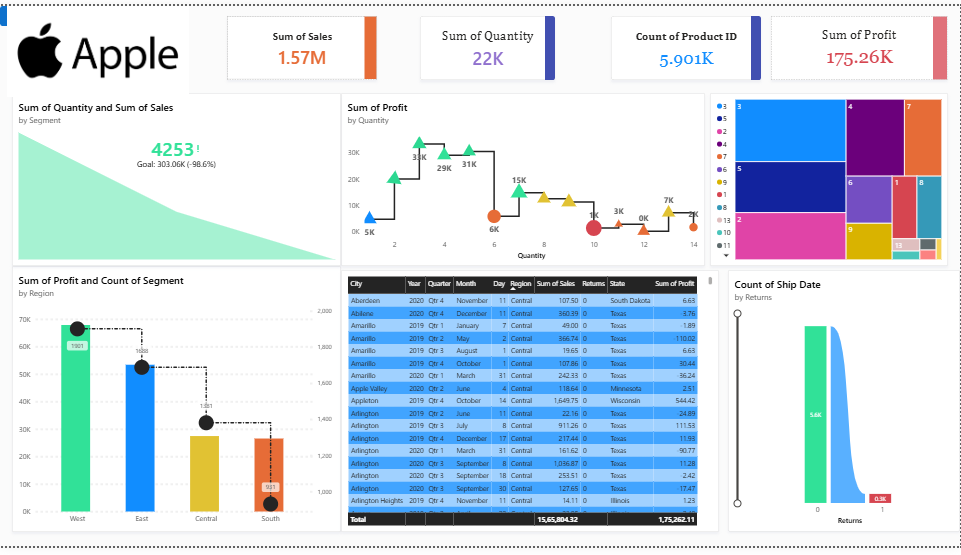

The dashboard page shown, as its layout file describes it:
{"tool":"powerbi","page":{"name":"Page 2","canvas":[1920,1080],"ordinal":0},"visuals":[{"type":"cardVisual","fields":{"Data":["Sum(SuperStore_Sales_Dataset.Profit)"]},"box":[1542.1,20.8,353.1,128.1],"z":0},{"type":"cardVisual","fields":{"Data":["Sum(SuperStore_Sales_Dataset.Sales)"]},"box":[454.6,20.5,300,127.5],"z":1000},{"type":"cardVisual","fields":{"Data":["Sum(SuperStore_Sales_Dataset.Quantity)"]},"box":[839.1,20.5,270,128.6],"z":2000},{"type":"cardVisual","fields":{"Data":["CountNonNull(SuperStore_Sales_Dataset.Product ID)"]},"box":[1221.8,20.5,300,128.6],"z":3000},{"type":"ribbonChart","fields":{"Category":["SuperStore_Sales_Dataset.Returns"],"Y":["CountNonNull(SuperStore_Sales_Dataset.Ship Date)"]},"box":[1456.6,528.9,463.9,522.9],"z":4000},{"type":"actionButton","box":[0,0,100,40],"z":5000},{"type":"treemap","fields":{"Values":["Sum(SuperStore_Sales_Dataset.Sales)"],"Group":["SuperStore_Sales_Dataset.Quantity"]},"box":[1420,174,476,346],"z":6000},{"type":"lineClusteredColumnComboChart","fields":{"Category":["SuperStore_Sales_Dataset.Region"],"Y":["Sum(SuperStore_Sales_Dataset.Profit)"],"Y2":["CountNonNull(SuperStore_Sales_Dataset.Segment)"]},"box":[24,520,658,532],"z":7000},{"type":"lineChart","fields":{"Category":["SuperStore_Sales_Dataset.Quantity"],"Y":["Sum(SuperStore_Sales_Dataset.Profit)"]},"box":[682,174,728,346],"z":8000},{"type":"kpi","fields":{"TrendLine":["SuperStore_Sales_Dataset.Segment"],"Indicator":["Sum(SuperStore_Sales_Dataset.Quantity)"],"Goal":["Sum(SuperStore_Sales_Dataset.Sales)"]},"box":[24,174,658,346],"z":9000},{"type":"tableEx","fields":{"Values":["SuperStore_Sales_Dataset.City","SuperStore_Sales_Dataset.Order Date.Variation.Date Hierarchy.Year","SuperStore_Sales_Dataset.Order Date.Variation.Date Hierarchy.Quarter","SuperStore_Sales_Dataset.Order Date.Variation.Date Hierarchy.Month","SuperStore_Sales_Dataset.Order Date.Variation.Date Hierarchy.Day","SuperStore_Sales_Dataset.Region","Sum(SuperStore_Sales_Dataset.Sales)","SuperStore_Sales_Dataset.Returns","SuperStore_Sales_Dataset.State","Sum(SuperStore_Sales_Dataset.Profit)"]},"box":[682,528,756,524],"z":10000},{"type":"image","box":[0,0,392,182],"z":10001}]}

Visuals, with their boxes in screenshot pixels (x1, y1, x2, y2), scaled from the page's 1920x1080 canvas onto the 961x555 screenshot:
cardVisual - Sum(SuperStore_Sales_Dataset.Profit): detection(772, 11, 949, 77)
cardVisual - Sum(SuperStore_Sales_Dataset.Sales): detection(228, 11, 378, 76)
cardVisual - Sum(SuperStore_Sales_Dataset.Quantity): detection(420, 11, 555, 77)
cardVisual - CountNonNull(SuperStore_Sales_Dataset.Product ID): detection(612, 11, 762, 77)
ribbonChart - SuperStore_Sales_Dataset.Returns x CountNonNull(SuperStore_Sales_Dataset.Ship Date): detection(729, 272, 960, 541)
actionButton: detection(0, 0, 50, 21)
treemap - Sum(SuperStore_Sales_Dataset.Sales) x SuperStore_Sales_Dataset.Quantity: detection(711, 89, 949, 267)
lineClusteredColumnComboChart - SuperStore_Sales_Dataset.Region x Sum(SuperStore_Sales_Dataset.Profit): detection(12, 267, 341, 541)
lineChart - SuperStore_Sales_Dataset.Quantity x Sum(SuperStore_Sales_Dataset.Profit): detection(341, 89, 706, 267)
kpi - SuperStore_Sales_Dataset.Segment x Sum(SuperStore_Sales_Dataset.Quantity): detection(12, 89, 341, 267)
tableEx - SuperStore_Sales_Dataset.City x SuperStore_Sales_Dataset.Order Date.Variation.Date Hierarchy.Year: detection(341, 271, 720, 541)
image: detection(0, 0, 196, 94)
